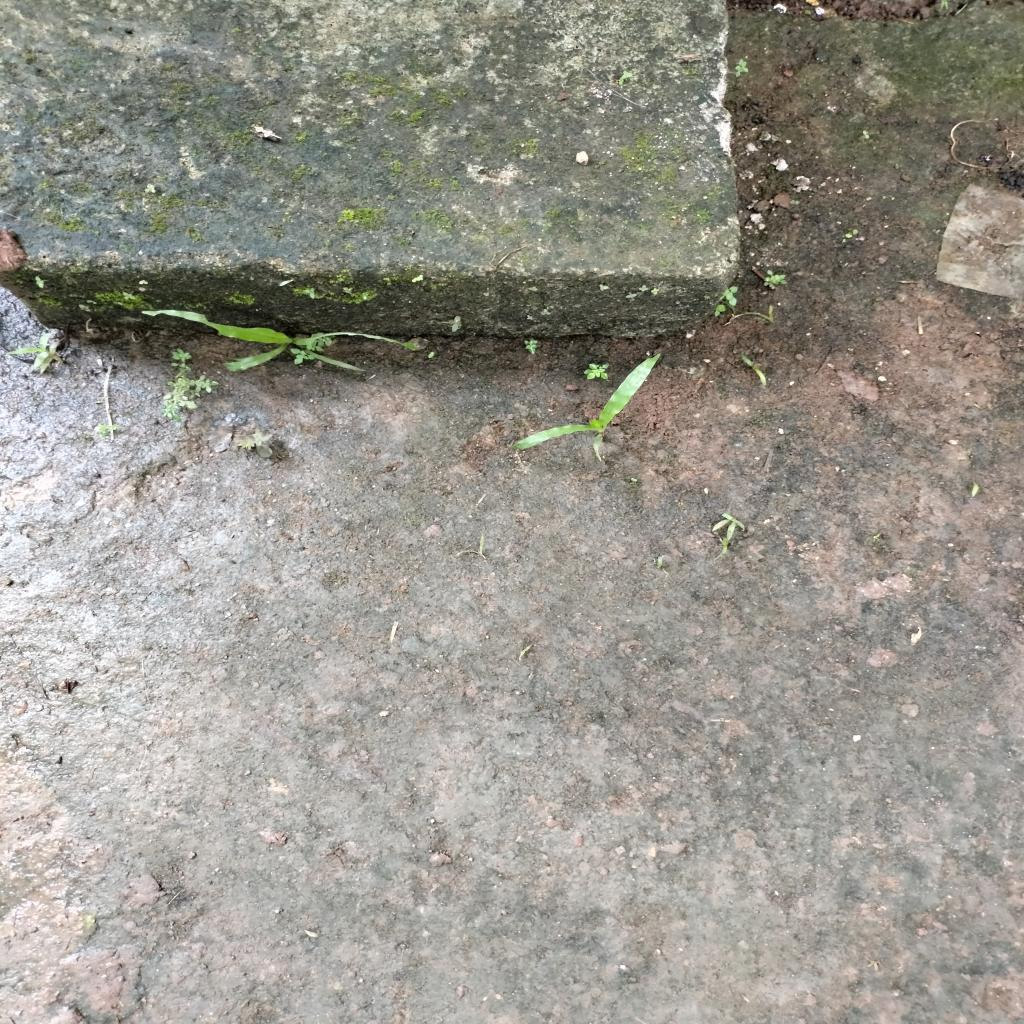lumut besar: (148, 341, 222, 430), (286, 321, 340, 372), (760, 262, 794, 294), (576, 357, 612, 384)
rambat bawah: (133, 298, 424, 380), (504, 350, 665, 465)
